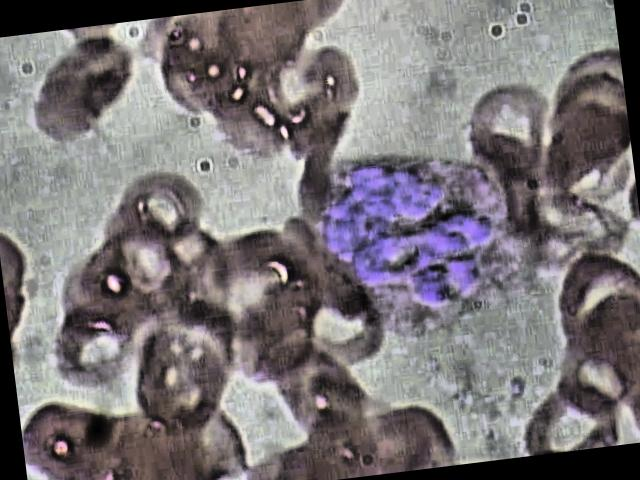Platelets: (495, 374, 535, 412)
RBC: (121, 306, 251, 438), (19, 26, 144, 154), (541, 243, 640, 370), (264, 344, 377, 454), (456, 76, 558, 180), (42, 308, 147, 402), (104, 170, 208, 264), (542, 70, 632, 168), (513, 382, 629, 456), (146, 35, 233, 126), (542, 45, 628, 136)
WBC: (306, 134, 542, 346)
